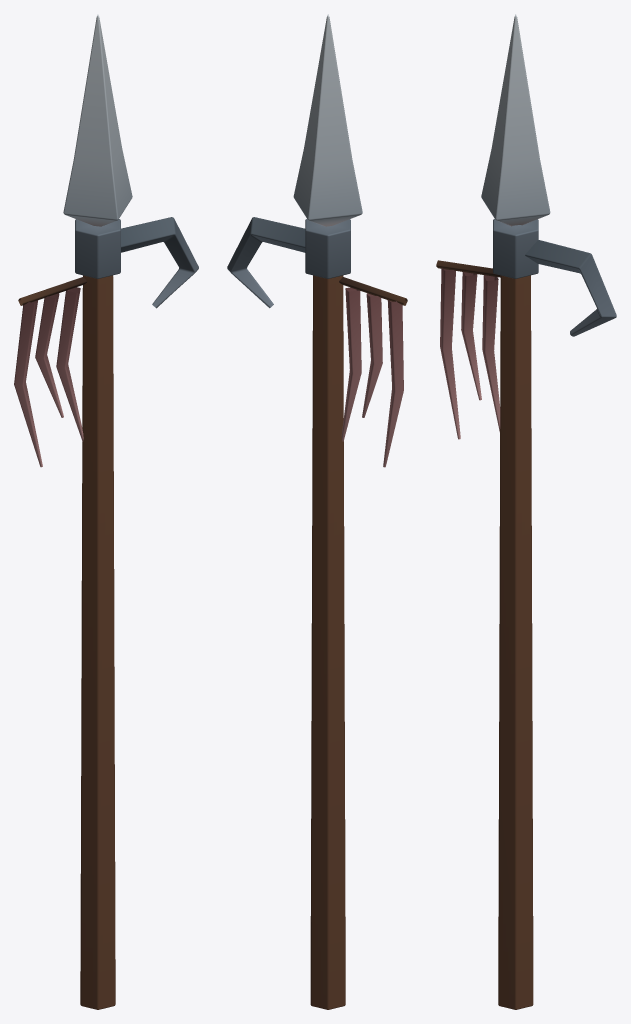
The model's file is lg_ratcatcher_pike.glb.
The picture shows the model from 3 angles, left to right: view 1: azimuth 30°, elevation 25°; view 2: azimuth 150°, elevation 25°; view 3: azimuth 330°, elevation 25°; orthographic projection.
Parts seen in each view (by area): view 1: lg_ratcatcher_pike; view 2: lg_ratcatcher_pike; view 3: lg_ratcatcher_pike.
Boxes of the visible parts, x1,y1,x2,y2 form: lg_ratcatcher_pike: [14, 14, 198, 1009]; lg_ratcatcher_pike: [227, 14, 407, 1009]; lg_ratcatcher_pike: [436, 14, 616, 1009].
Size of the model in its own units: 0.5126 by 2.68 by 0.1955.
